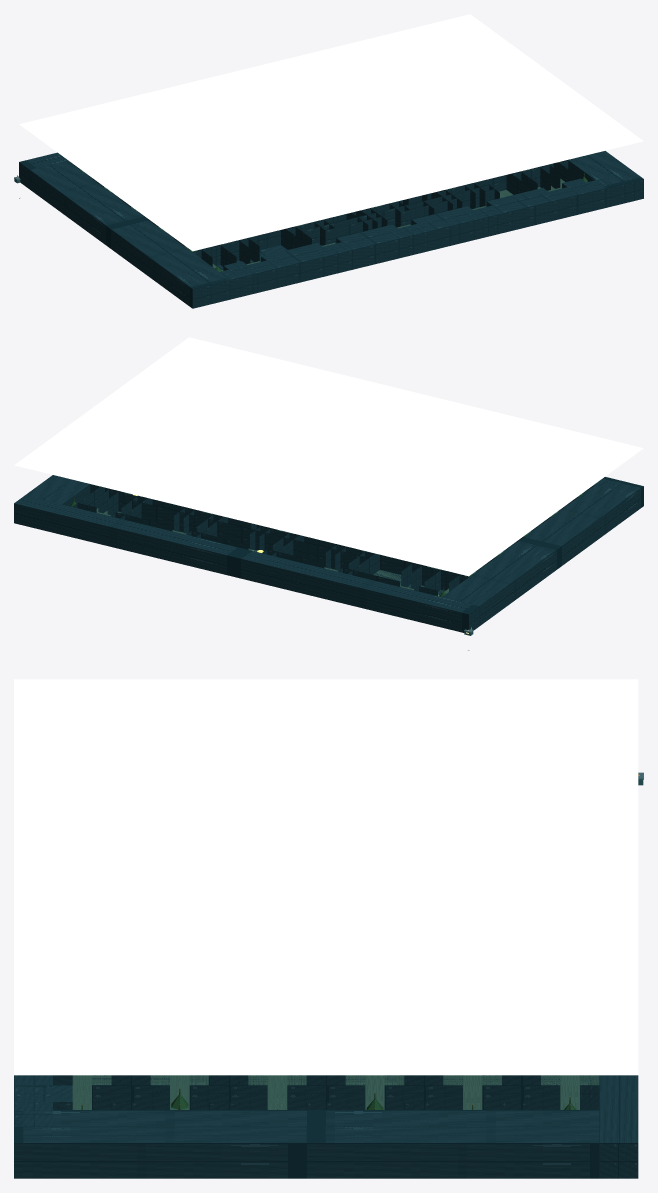
File: level.gltf
The picture shows the model from 3 angles, top to bottom: view 1: azimuth 30°, elevation 25°; view 2: azimuth 150°, elevation 25°; view 3: azimuth 270°, elevation 25°; orthographic projection. The views are drawn at different scales.
Visible parts, largest first — view 1: PROP_SECTOR_0, PROP_SECTOR_1, PROP_SECTOR_3, PROP_SECTOR_2, PROP_SECTOR_6; view 2: PROP_SECTOR_0, PROP_SECTOR_1, PROP_SECTOR_3, PROP_SECTOR_2, PROP_SECTOR_5; view 3: PROP_SECTOR_0, PROP_SECTOR_1, PROP_SECTOR_2.
Boxes of the visible parts, x1,y1,x2,y2 form: PROP_SECTOR_0: (19,14,643,308); PROP_SECTOR_1: (93,151,643,299); PROP_SECTOR_3: (34,172,514,308); PROP_SECTOR_2: (79,164,596,227); PROP_SECTOR_6: (287,161,560,244); PROP_SECTOR_0: (14,337,643,632); PROP_SECTOR_1: (25,479,602,591); PROP_SECTOR_3: (410,479,642,606); PROP_SECTOR_2: (77,486,499,596); PROP_SECTOR_5: (70,493,473,594); PROP_SECTOR_0: (14,679,638,1178); PROP_SECTOR_1: (14,1075,599,1142); PROP_SECTOR_2: (14,1075,599,1109).
Bounding box in the file's own units: 290 × 45 × 194.
Materials: 2 (2 with a texture image).
